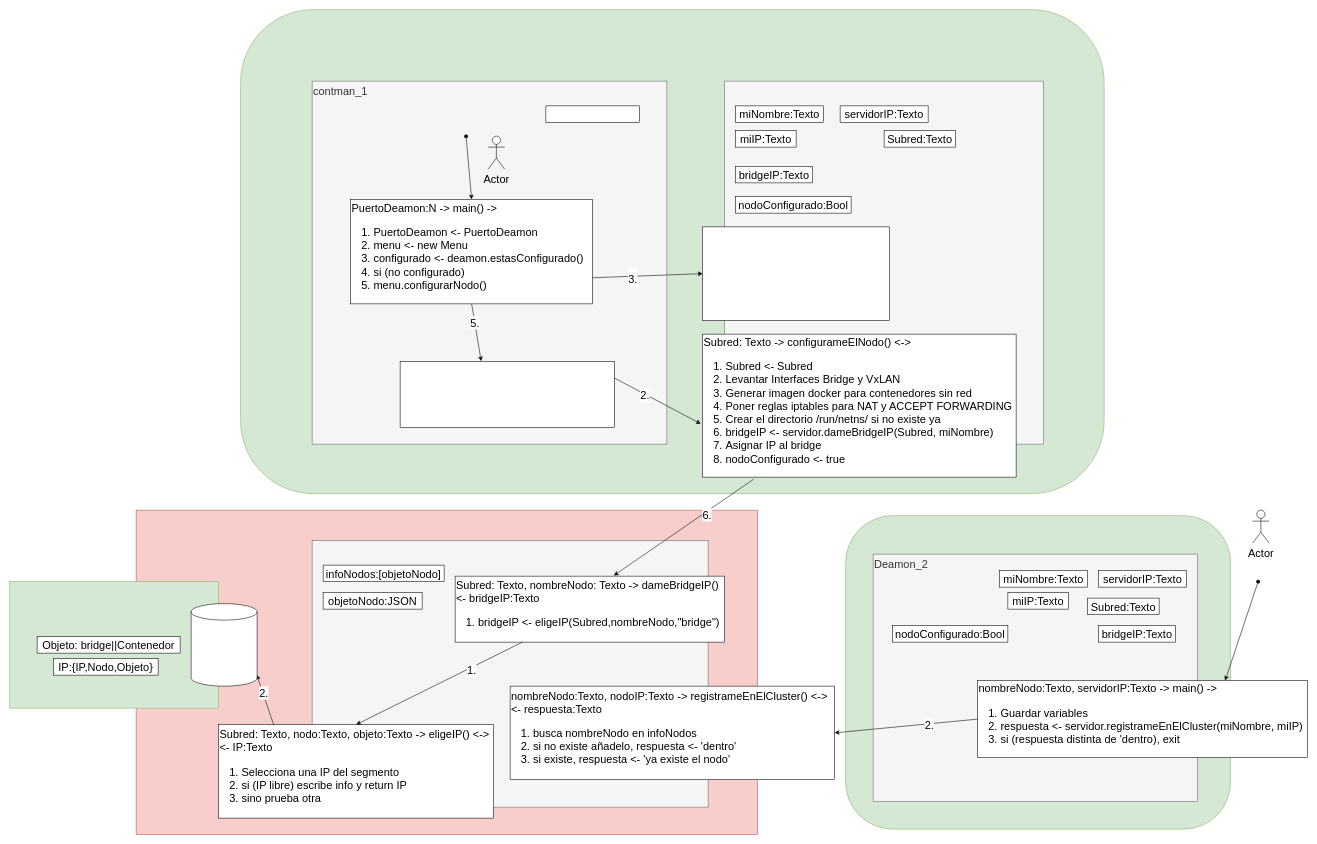
This 1317x844 diagram has some shape labels left out. Here are the shapes that lost their labels. From the top down, the box of each, then its label:
(545, 105, 639, 122): puertoDeamon:N
(240, 9, 1104, 494): Nodo1
(724, 81, 1044, 444): Deamon_1
(702, 226, 890, 320): estasConfigurado() <- <- bool si (nodoConfigurado) return true sino return false
(400, 361, 615, 428): menu.configurarNodo() Subred <- input() deamon.configurameElNodo(Subred)
(9, 581, 219, 708): Almacenamineto clave:valor en etcd
(191, 603, 257, 686): etcd
(312, 540, 708, 807): Servidor
(845, 515, 1231, 829): Nodo2
